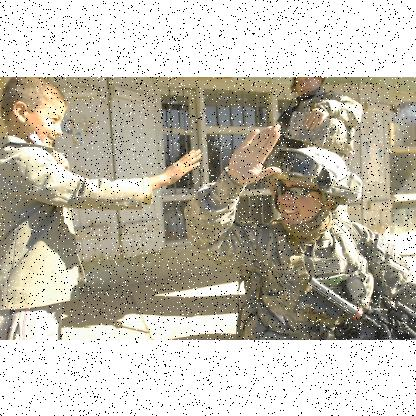gun: (292, 278, 416, 338)
